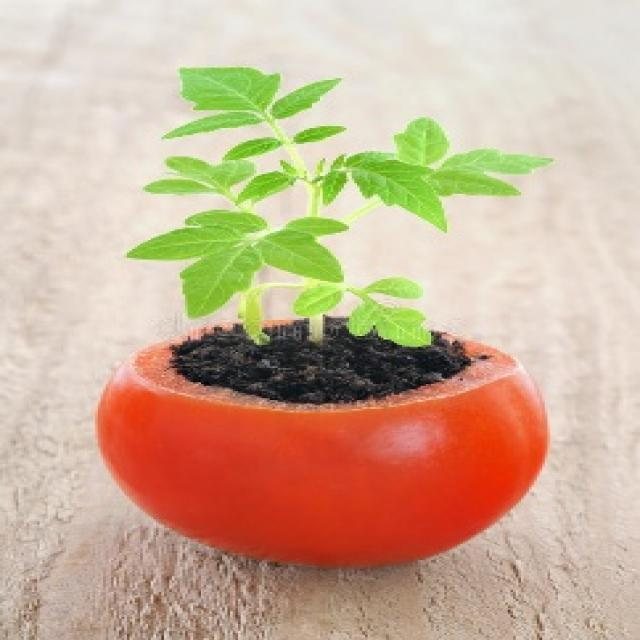plant: (127, 68, 553, 346)
